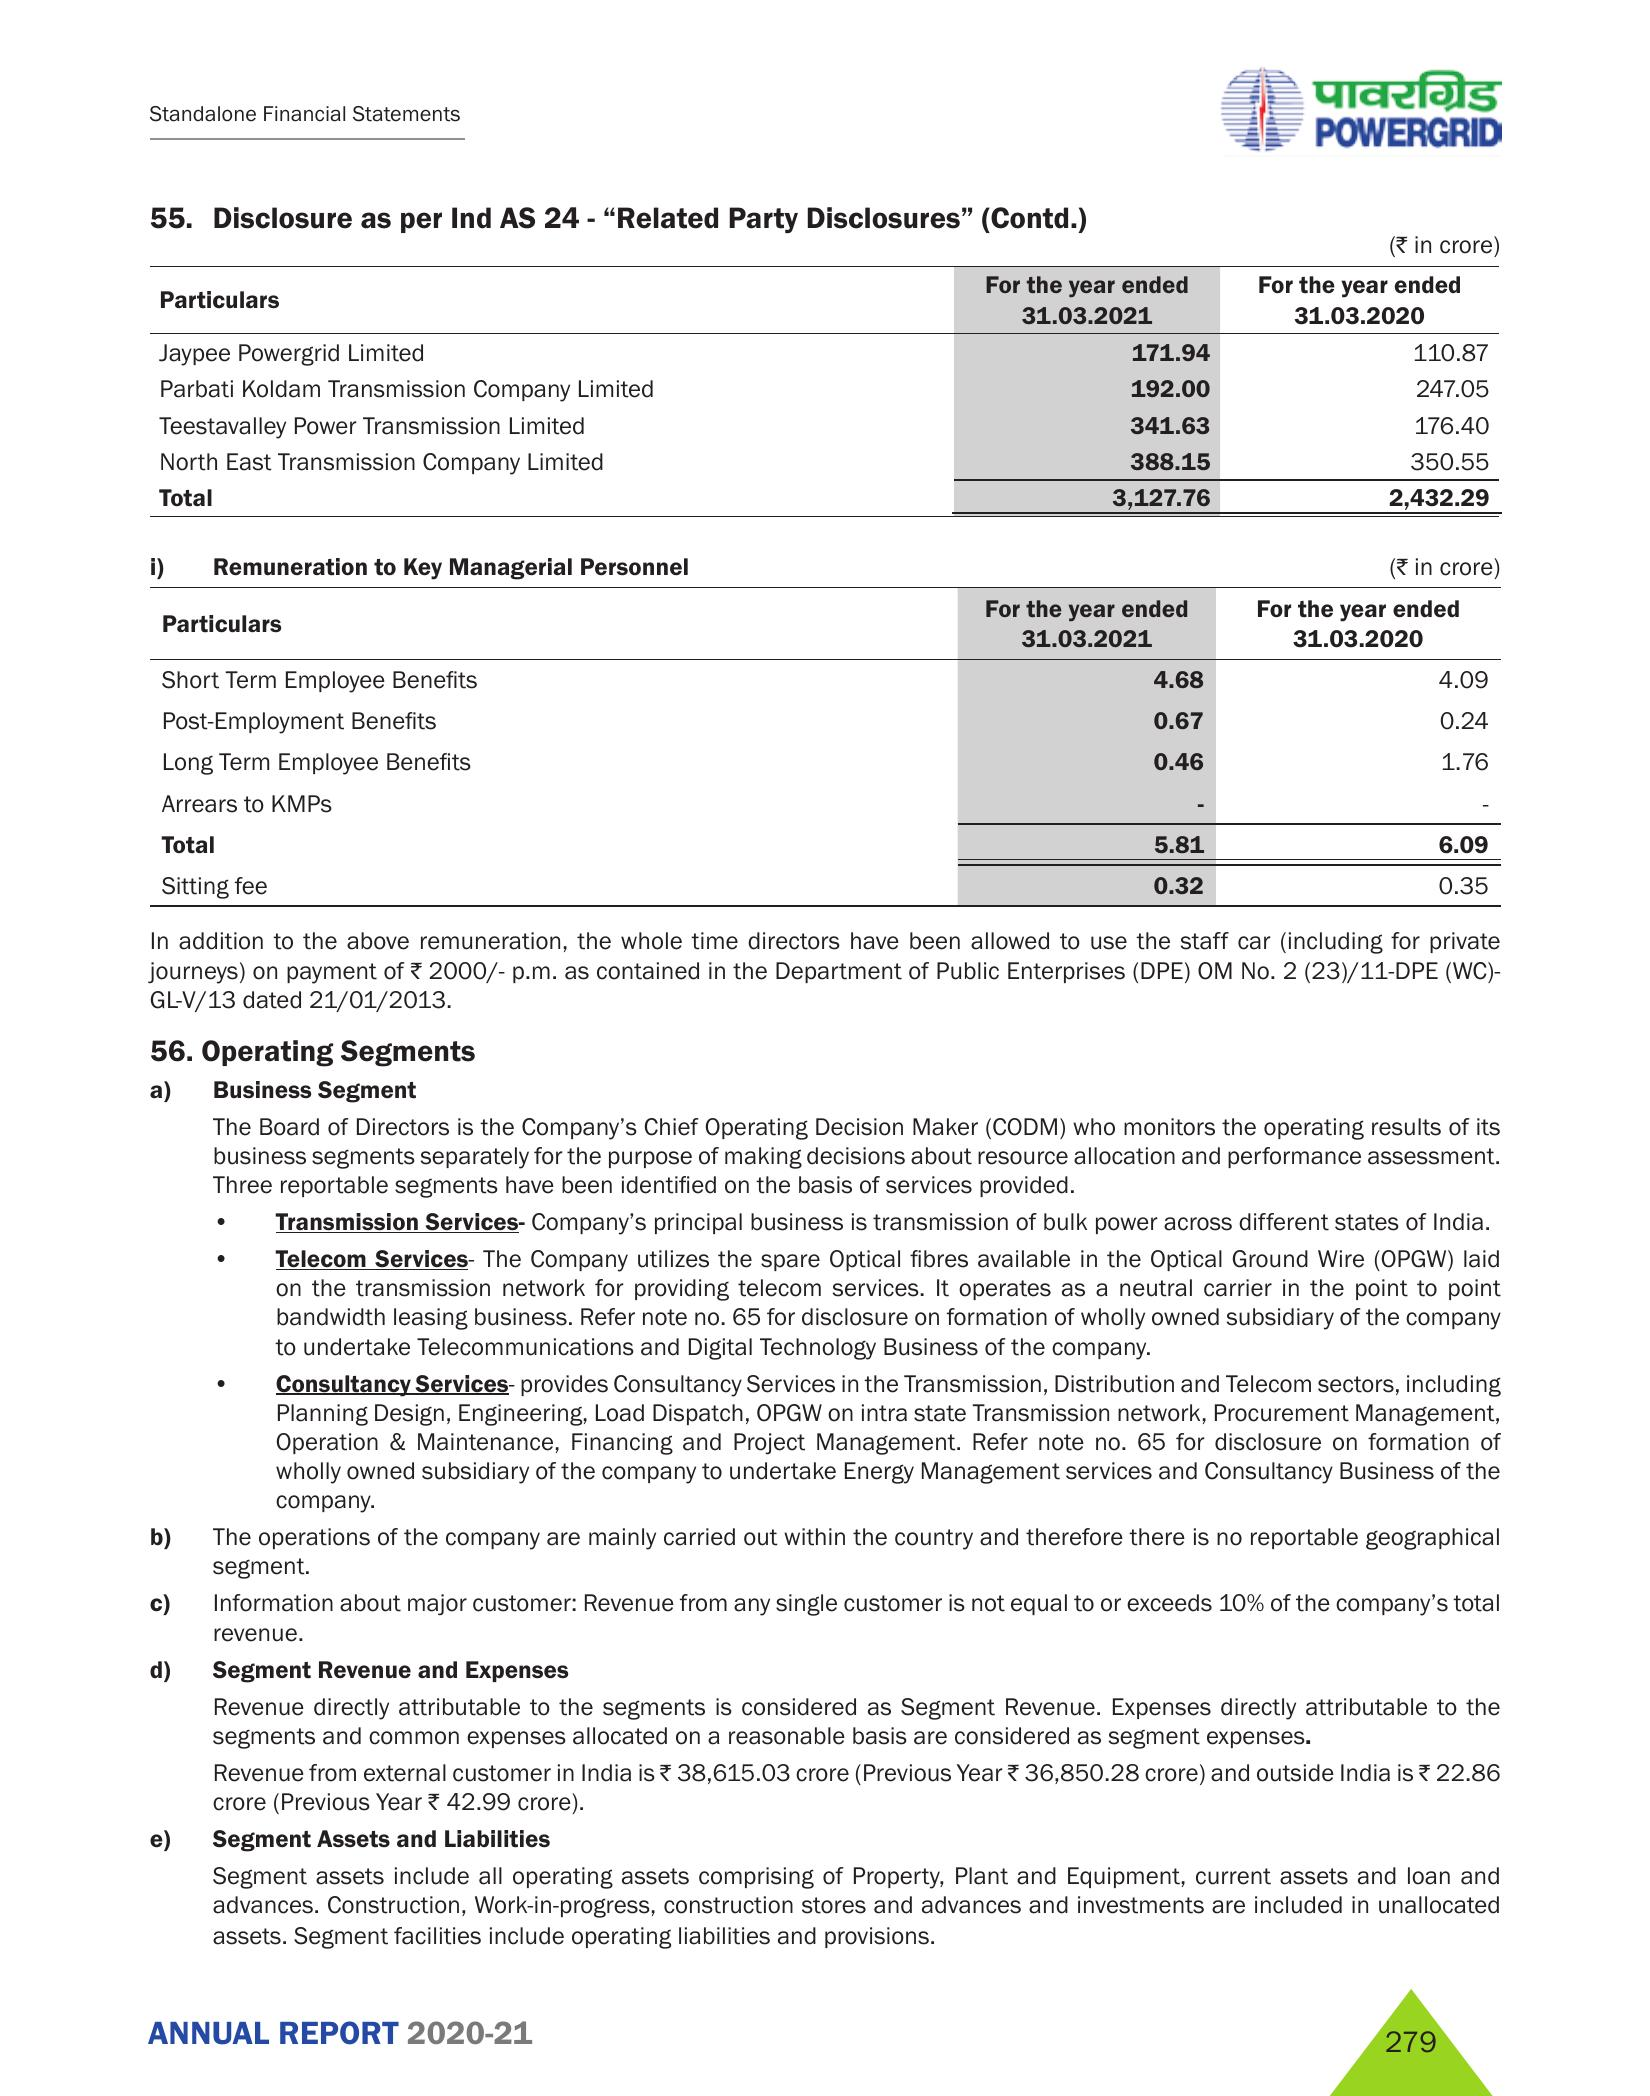Footer: (0, 1965, 1650, 2096)
Header: (0, 0, 1650, 175)
Table: (122, 584, 1528, 903), (114, 265, 1551, 515)
